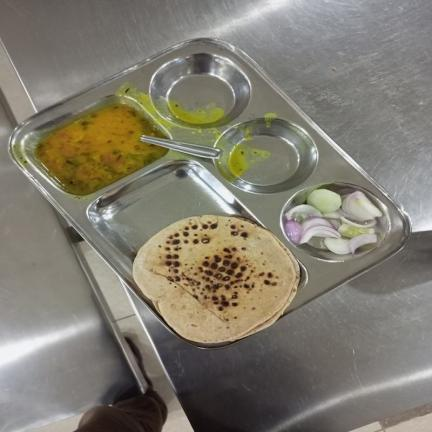Chana Dal: (36, 101, 167, 193)
Plate: (7, 36, 411, 350)
Roti: (133, 214, 300, 341)
Salad: (284, 189, 383, 254)
